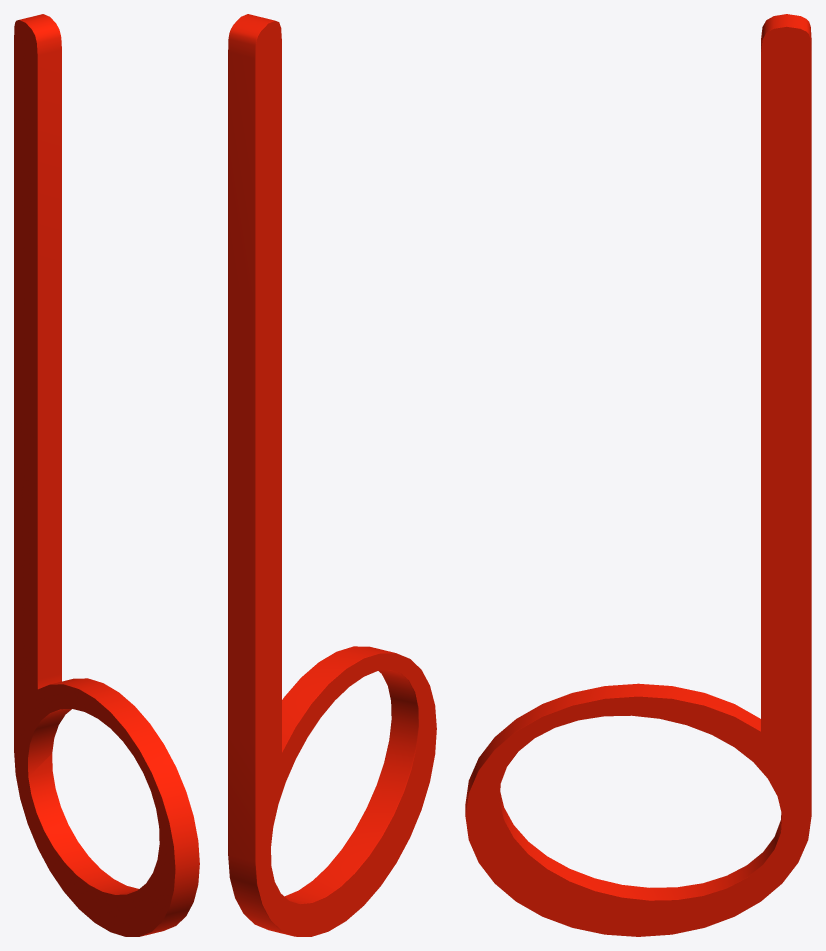
The model's file is musicNotes_07.fbx.
The picture shows the model from 3 angles, left to right: view 1: azimuth 30°, elevation 25°; view 2: azimuth 150°, elevation 25°; view 3: azimuth 270°, elevation 25°; orthographic projection. The views are drawn at different scales.
Parts seen in each view (by area): view 1: Cylinder; view 2: Cylinder; view 3: Cylinder.
Boxes of the visible parts, bbox=[...] form: Cylinder: bbox=[14, 14, 199, 936]; Cylinder: bbox=[228, 14, 436, 936]; Cylinder: bbox=[465, 14, 811, 936].
Size of the model in its own units: 1.83 by 60.88 by 20.98.
